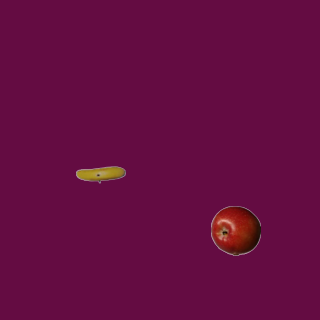Apple Braeburn: (210, 205, 260, 255)
Banana: (75, 149, 125, 199)
